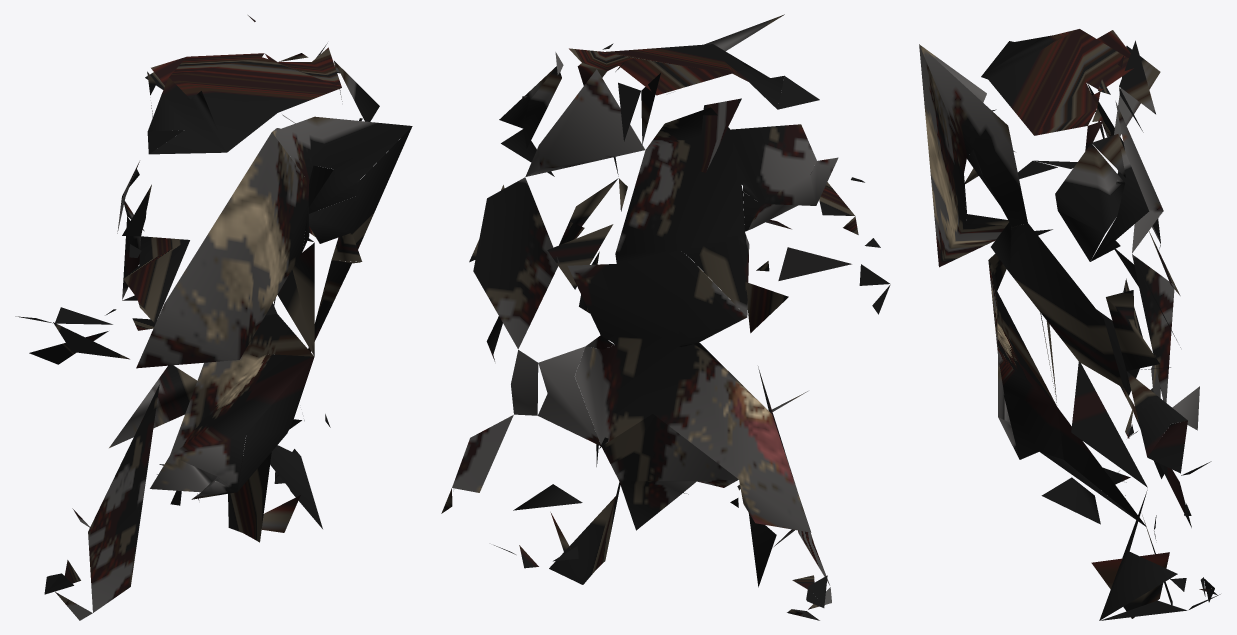
3 views of the same model, side by side, from view 1: azimuth 30°, elevation 25°; view 2: azimuth 150°, elevation 25°; view 3: azimuth 270°, elevation 25° (orthographic). The views are drawn at different scales.
Parts seen in each view (by area): view 1: body.002; view 2: body.002; view 3: body.002.
Part boxes in pixels (bbox=[...]): body.002: bbox=[15, 15, 412, 620]; body.002: bbox=[441, 14, 890, 620]; body.002: bbox=[919, 29, 1220, 620].
Size of the model in its own units: 1.45 by 1.96 by 0.9768.
1 material, 1 textured.
